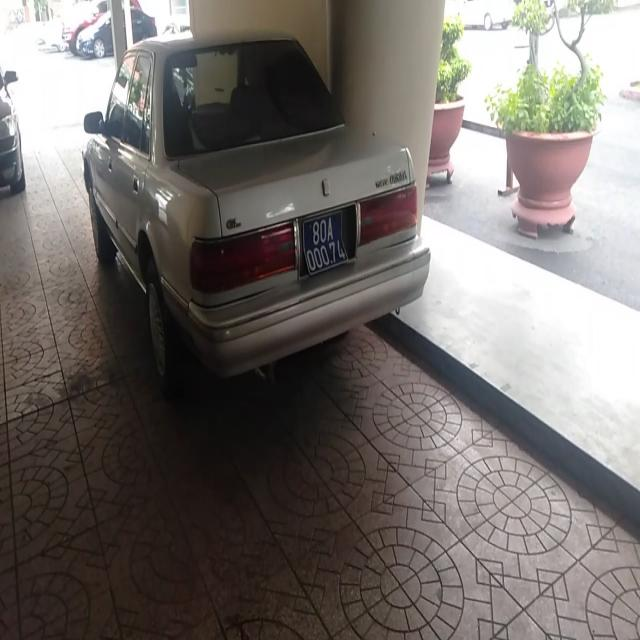bien_xanh: (298, 203, 358, 274)
